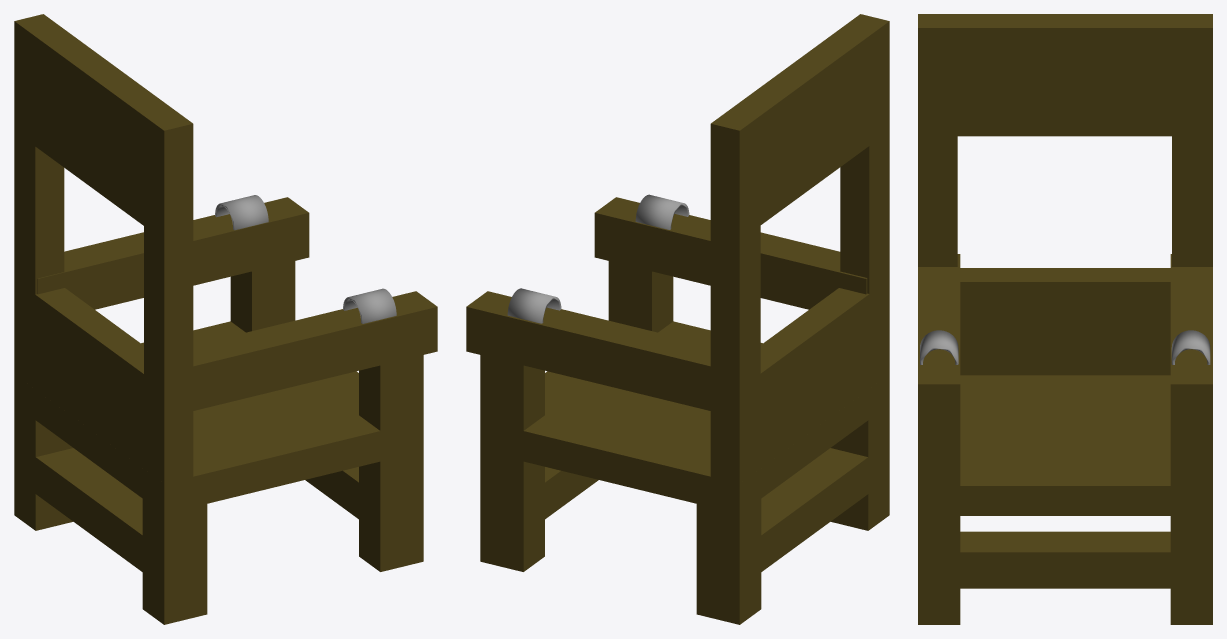
The model's file is Chair chain.fbx.
3 renders of one model, left to right at view 1: azimuth 30°, elevation 25°; view 2: azimuth 150°, elevation 25°; view 3: azimuth 270°, elevation 25°, orthographic.
Visible parts, largest first — view 1: Chair, Restraints; view 2: Chair, Restraints; view 3: Chair, Restraints.
Boxes of the visible parts, x1=… form: Chair: x1=14, y1=14, x2=437, y2=624; Restraints: x1=215, y1=195, x2=396, y2=323; Chair: x1=466, y1=14, x2=889, y2=624; Restraints: x1=507, y1=194, x2=689, y2=323; Chair: x1=918, y1=14, x2=1212, y2=624; Restraints: x1=920, y1=330, x2=1210, y2=364.
Size of the model in its own units: 93.25 by 161 by 88.48.
